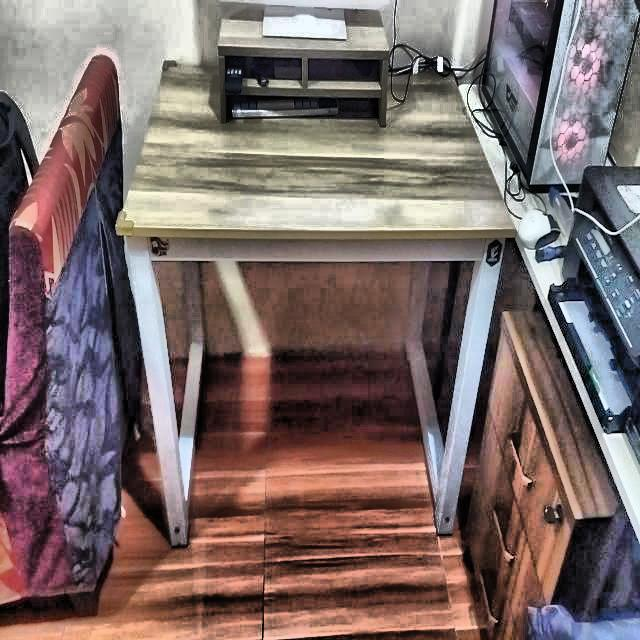mesa: (111, 55, 501, 554)
